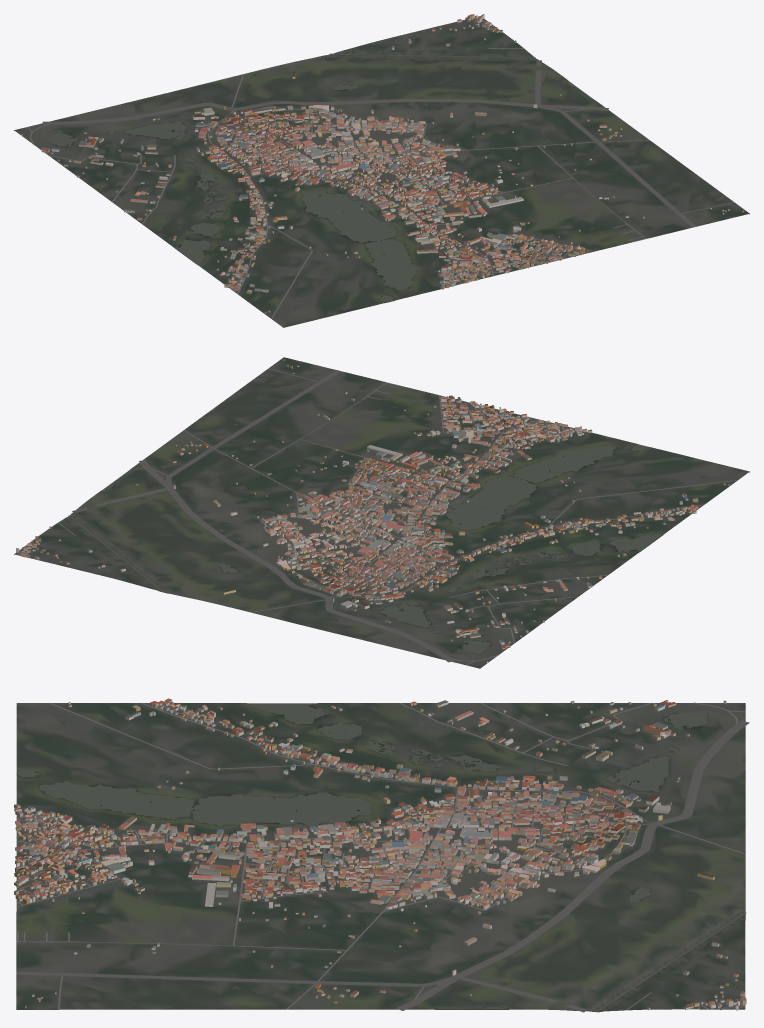
3 views of the same model, one above another, from view 1: azimuth 30°, elevation 25°; view 2: azimuth 150°, elevation 25°; view 3: azimuth 270°, elevation 25° (orthographic). The views are drawn at different scales.
Visible parts, largest first — view 1: ground, buildings, water, roads; view 2: ground, buildings, water, roads; view 3: ground, buildings, water, roads.
Boxes of the visible parts, x1,y1,x2,y2 form: ground: (14,16,749,327); buildings: (21,14,744,313); water: (43,53,592,301); roads: (27,17,733,318); ground: (14,357,749,668); buildings: (16,359,729,663); water: (68,445,662,654); roads: (17,368,737,665); ground: (16,703,745,1012); buildings: (14,698,746,1010); water: (17,703,746,1011); roads: (16,702,749,1012).
Bounding box in the file's own units: 1415 × 19.67 × 1415.
